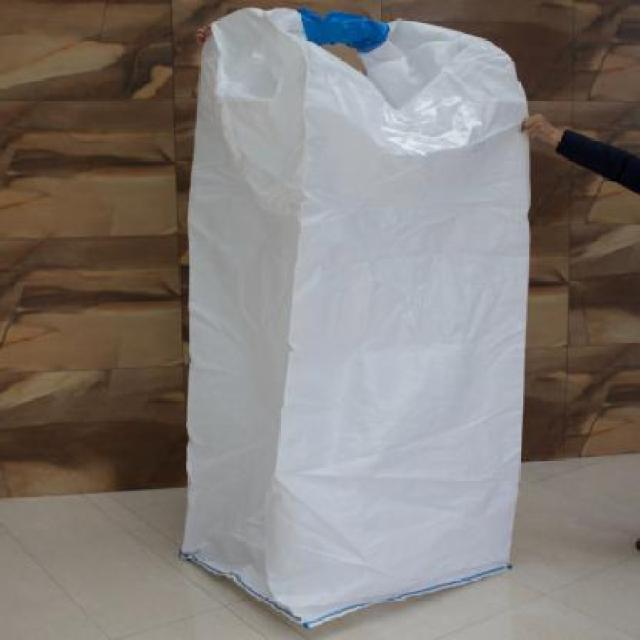plastic bag: (180, 4, 541, 640)
